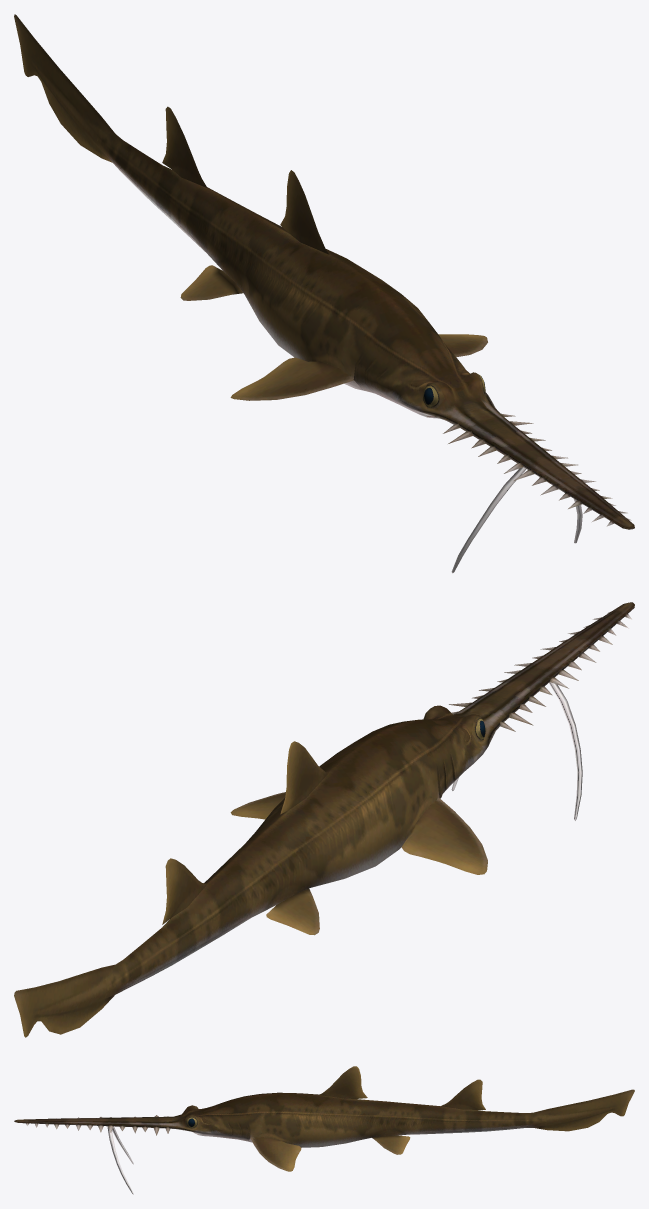
The model's file is FishNokogirizame.glb.
3 views of the same model, one above another, from view 1: azimuth 30°, elevation 25°; view 2: azimuth 150°, elevation 25°; view 3: azimuth 270°, elevation 25° (orthographic). The views are drawn at different scales.
Visible parts, largest first — view 1: FishNokogirizame__mNokogirizame; view 2: FishNokogirizame__mNokogirizame; view 3: FishNokogirizame__mNokogirizame.
Boxes of the visible parts, bbox=[...] form: FishNokogirizame__mNokogirizame: bbox=[14, 14, 634, 573]; FishNokogirizame__mNokogirizame: bbox=[14, 602, 634, 1037]; FishNokogirizame__mNokogirizame: bbox=[14, 1066, 634, 1194].
Bounding box in the file's own units: 4.58 × 3.9 × 19.34.
1 material, 1 textured.
